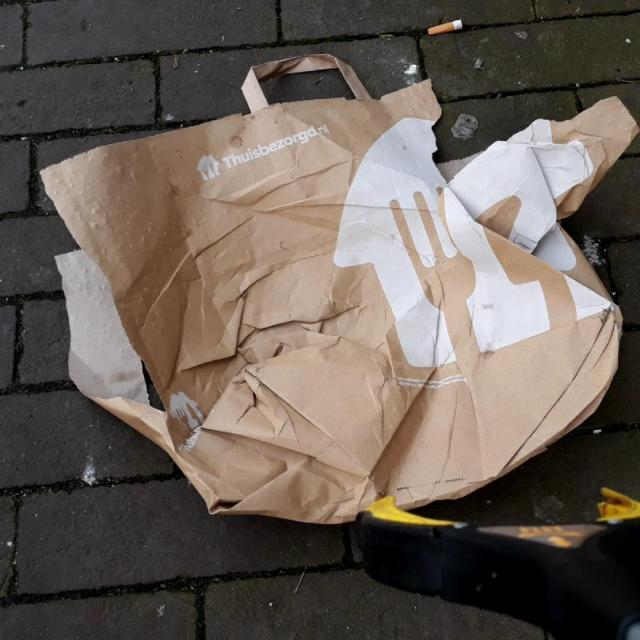Paper: (37, 50, 640, 526)
